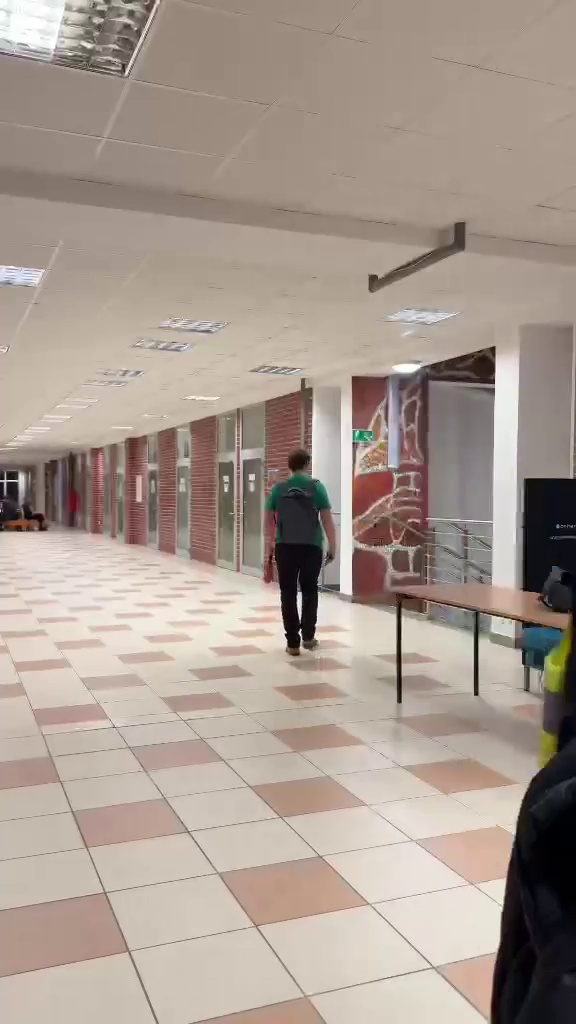no vest: (265, 444, 339, 660)
